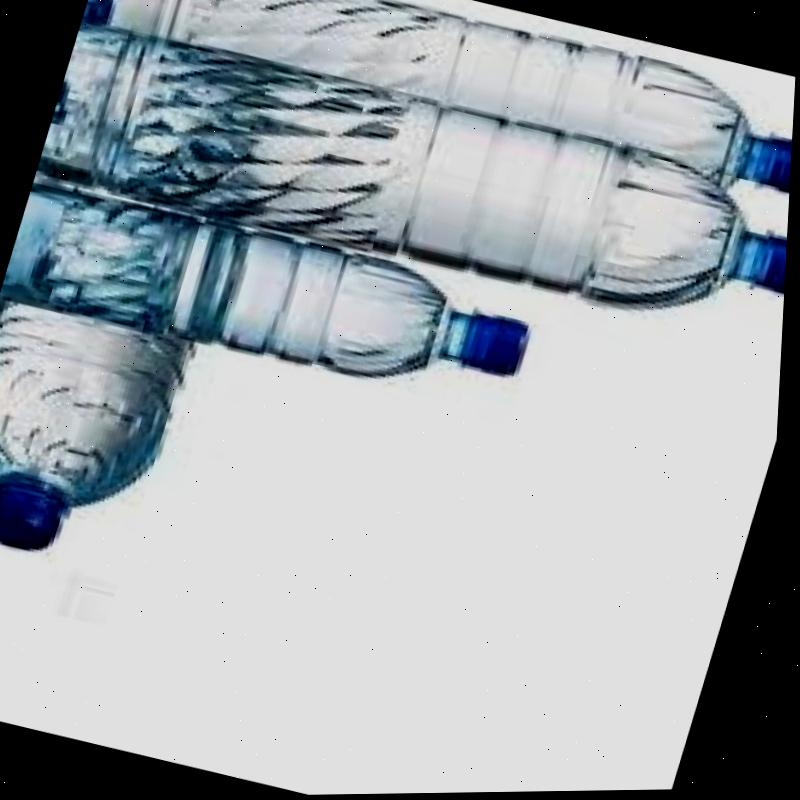botella: (28, 4, 799, 368), (69, 0, 800, 218), (0, 171, 551, 423), (0, 288, 205, 578)
